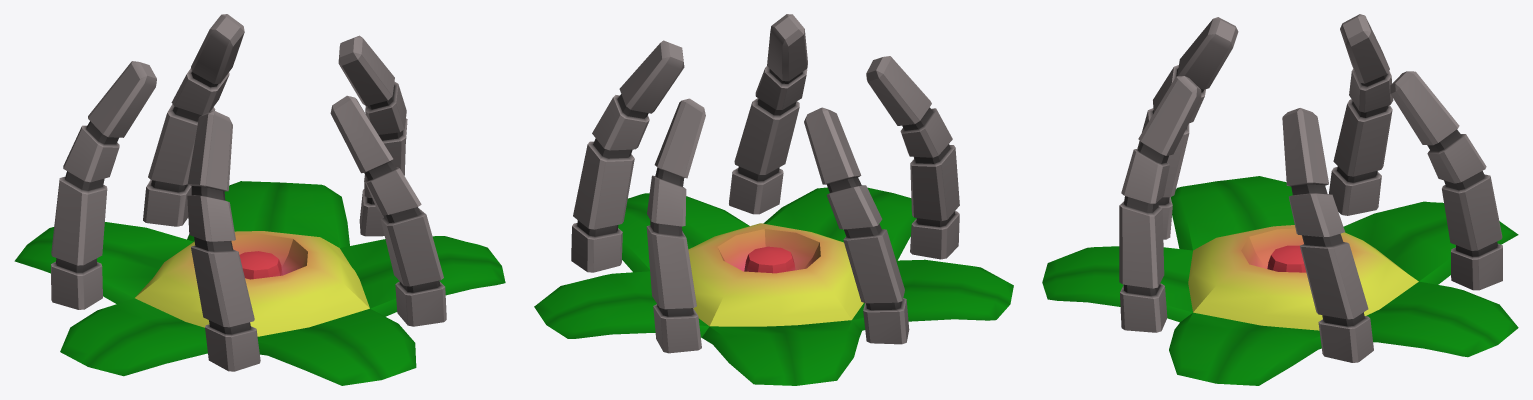
Rendered from Checkpoint.fbx.
3 views of the same model, side by side, from view 1: azimuth 30°, elevation 25°; view 2: azimuth 150°, elevation 25°; view 3: azimuth 270°, elevation 25° (orthographic). The views are drawn at different scales.
Visible parts, largest first — view 1: Checkpoint; view 2: Checkpoint; view 3: Checkpoint.
Part boxes in pixels (x1=…): Checkpoint: x1=14, y1=14, x2=505, y2=385; Checkpoint: x1=534, y1=14, x2=1013, y2=385; Checkpoint: x1=1042, y1=14, x2=1518, y2=385.
Bounding box in the file's own units: 393 × 206 × 378.
